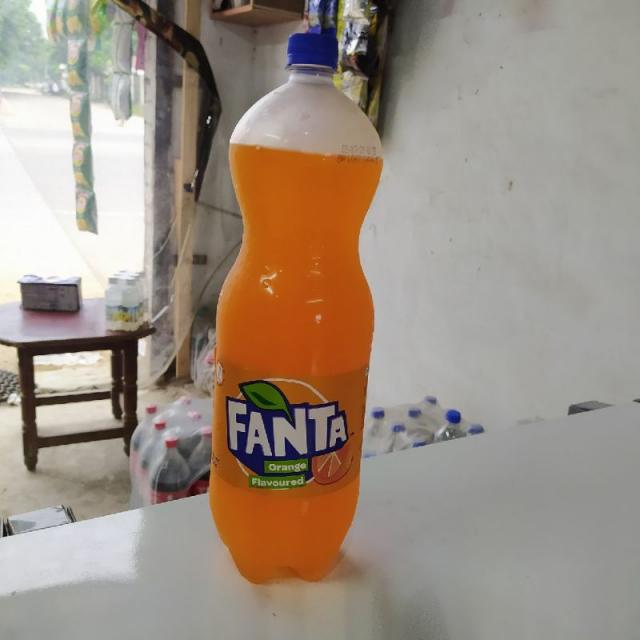Soda: (208, 27, 385, 588)
